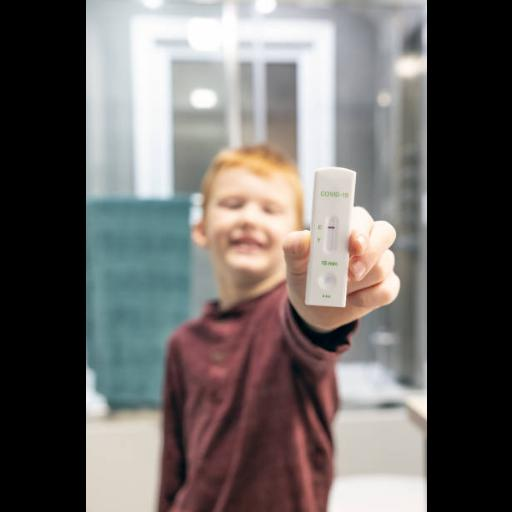Neg: (303, 167, 356, 308)
